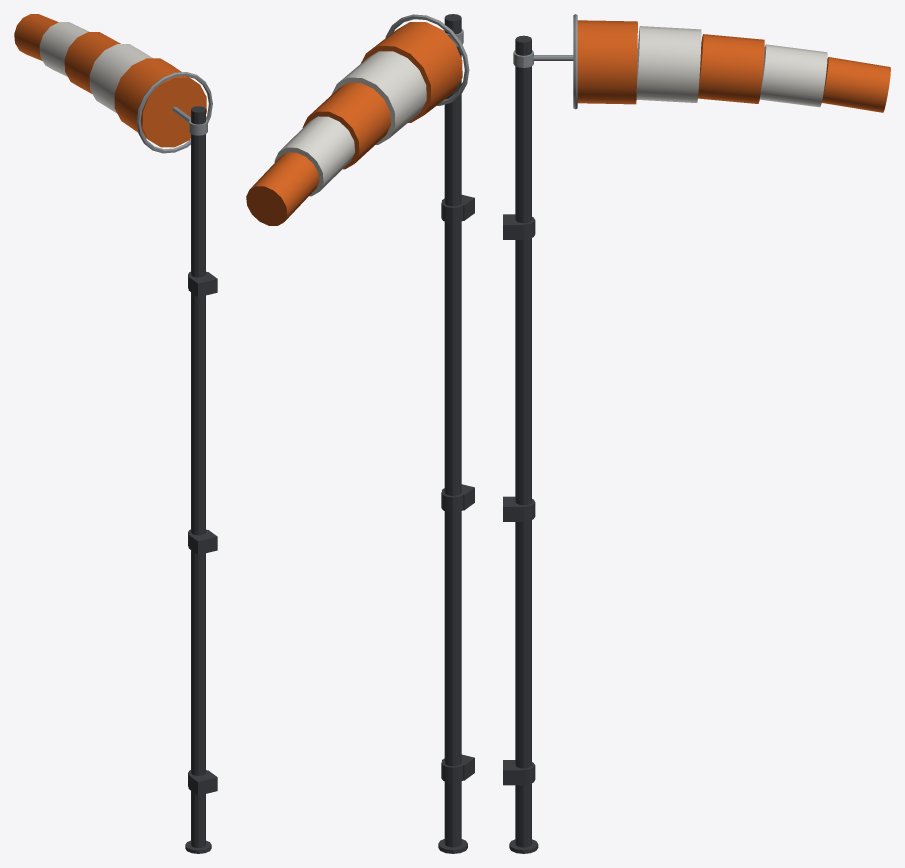
The model's file is prop_windsock.glb.
The picture shows the model from 3 angles, left to right: view 1: azimuth 30°, elevation 25°; view 2: azimuth 150°, elevation 25°; view 3: azimuth 270°, elevation 25°; orthographic projection. The views are drawn at different scales.
Parts seen in each view (by area): view 1: Windsock; view 2: Windsock; view 3: Windsock.
Part boxes in pixels (x1,y1,x2,y2): Windsock: (14, 14, 217, 853); Windsock: (246, 14, 474, 853); Windsock: (503, 14, 890, 853).
Bounding box in the file's own units: 0.464 × 4.41 × 1.87.
